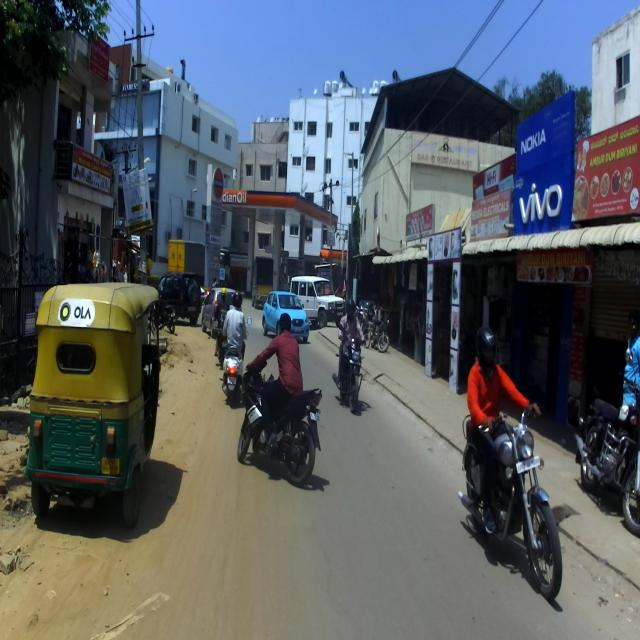motorcycle ahead at: (30, 283, 168, 515), (458, 406, 566, 601), (230, 366, 326, 490), (578, 386, 640, 533), (334, 333, 367, 419)
